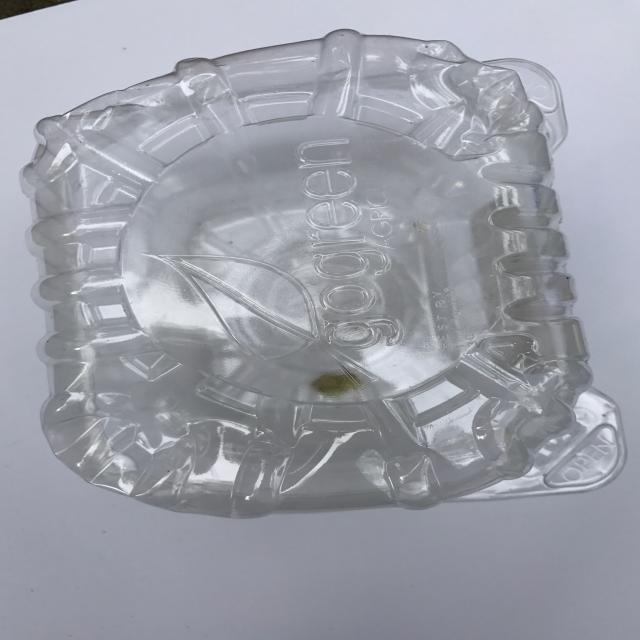plastic: (19, 28, 627, 519)
